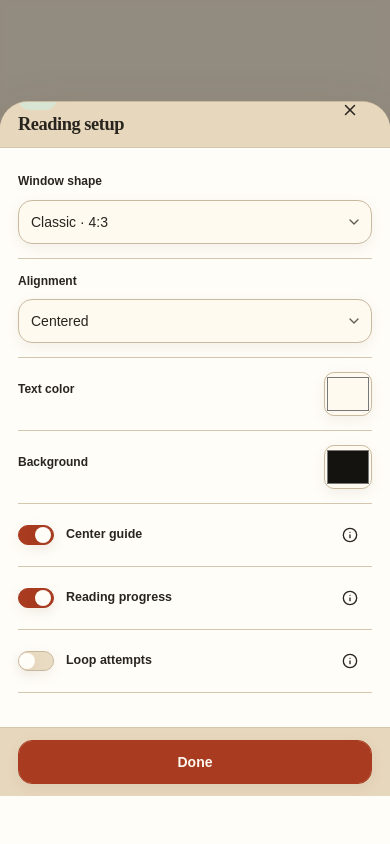
Test: TuneDialog › opens phone help by tap without covering the settings surface
(page scrolled)
Click the button named "About Center guide".
click(350, 535)  # box top-left (328, 513), bottom-right (372, 557)
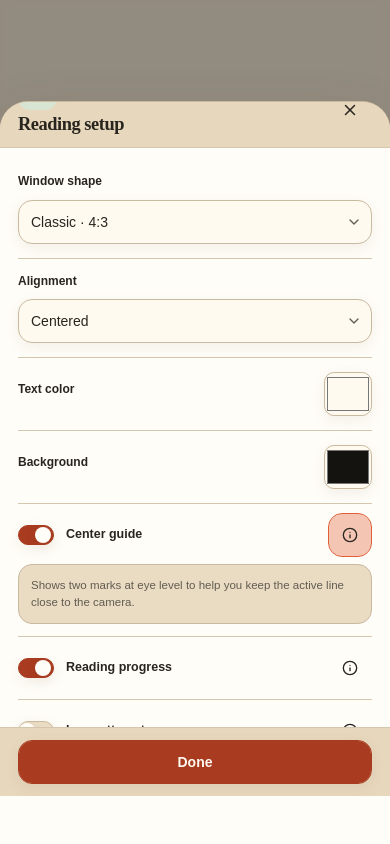
expect the button named "About Center guide" is expanded: met, box top-left (328, 513), bottom-right (372, 557)
